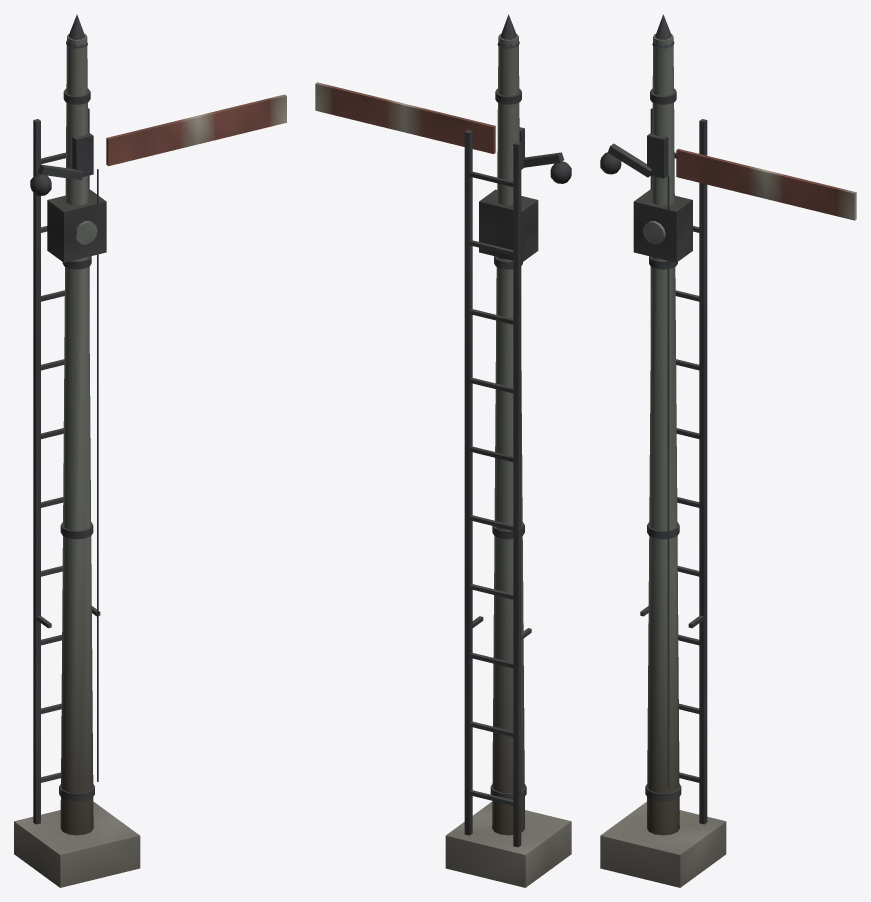
Rendered from m01_prop_semaphore_signal_lod0.glb.
3 renders of one model, left to right at view 1: azimuth 30°, elevation 25°; view 2: azimuth 150°, elevation 25°; view 3: azimuth 330°, elevation 25°, orthographic.
Parts seen in each view (by area): view 1: semaphore_signal; view 2: semaphore_signal; view 3: semaphore_signal.
Part boxes in pixels (x1=…): semaphore_signal: x1=14, y1=14, x2=286, y2=887; semaphore_signal: x1=315, y1=14, x2=571, y2=887; semaphore_signal: x1=600, y1=14, x2=856, y2=887.
Bounding box in the file's own units: 1.78 × 5.67 × 0.56.
